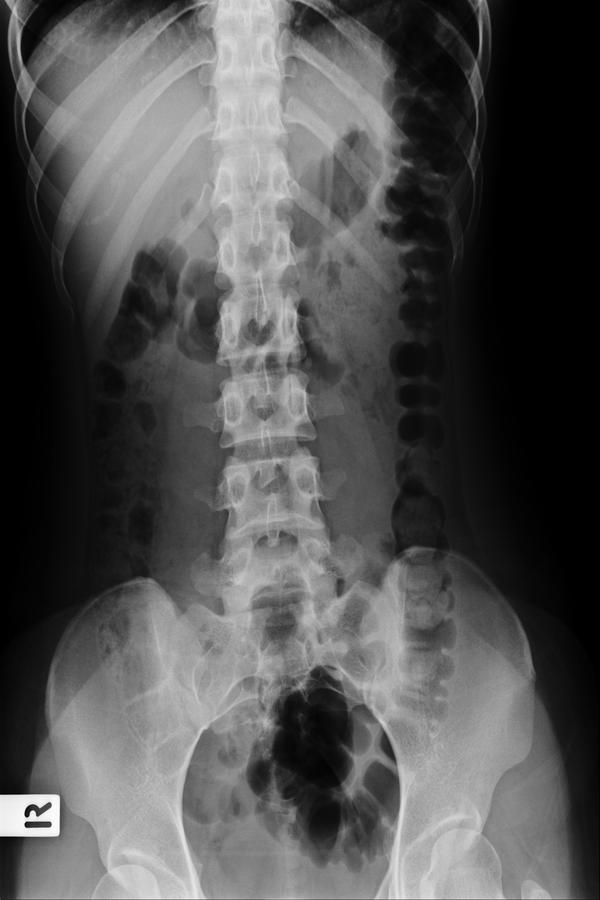lumbar scoliosis: (197, 108, 333, 588)
